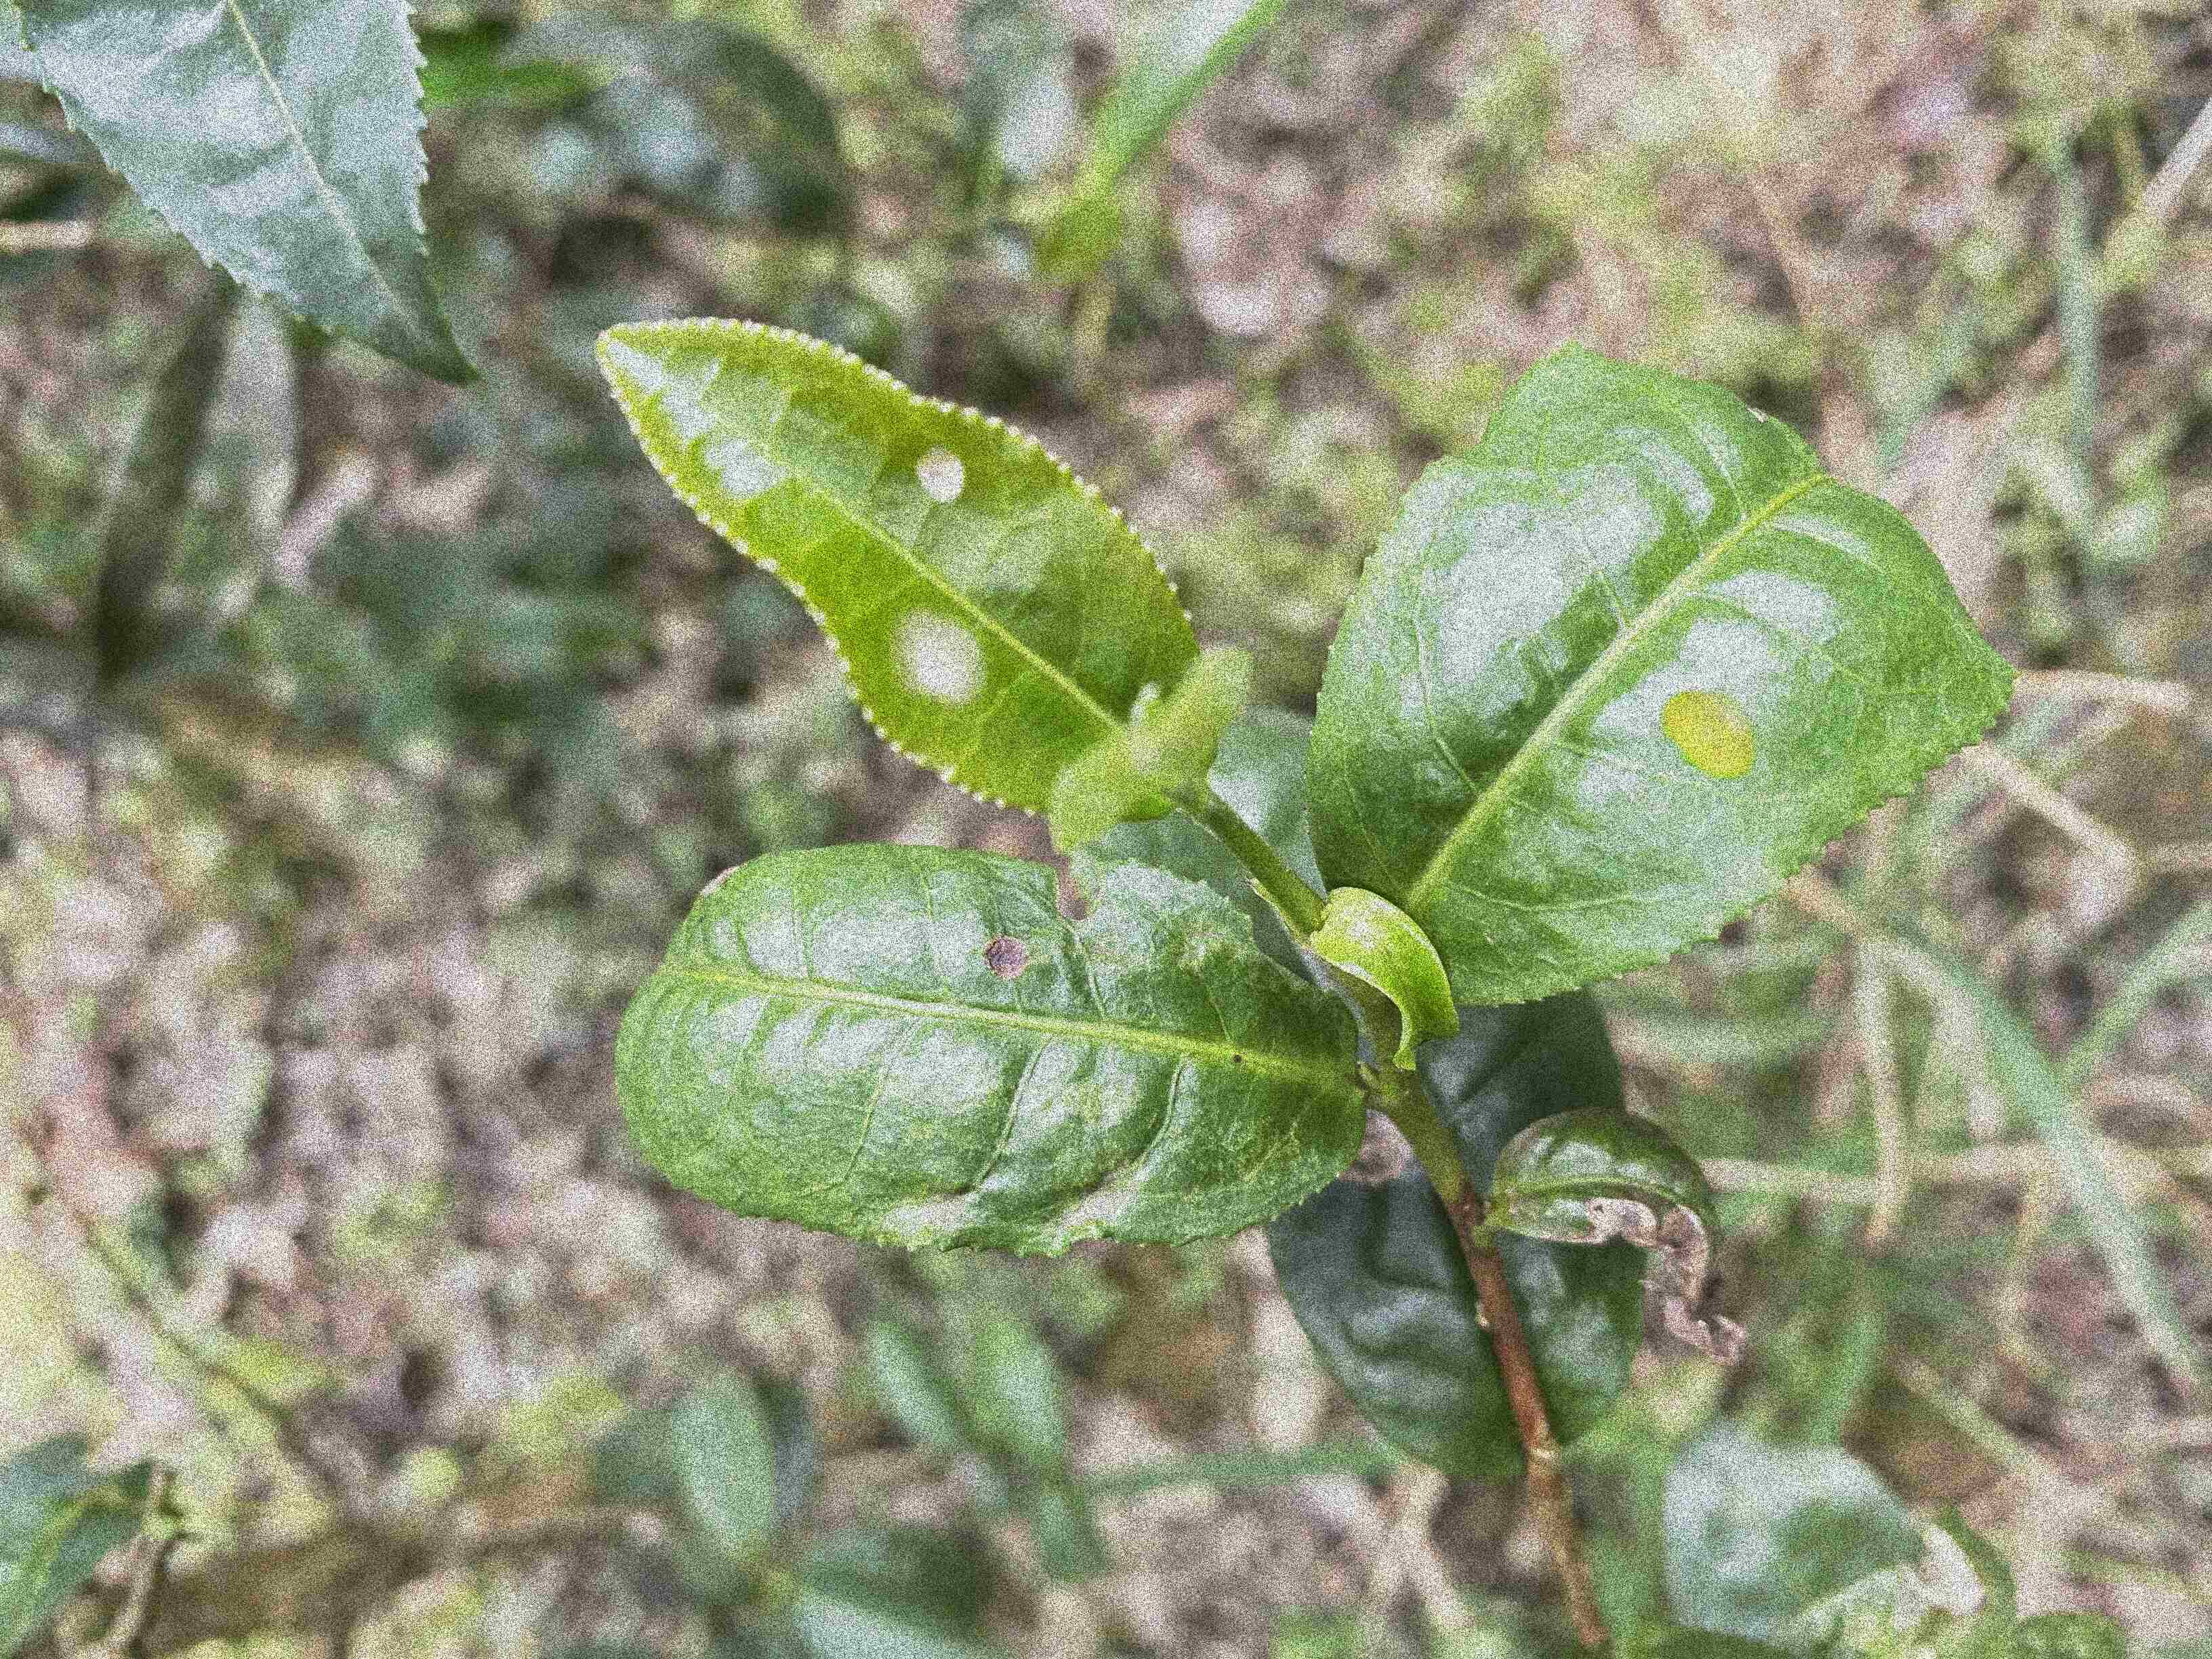chabing_high: (590, 315, 1219, 824)
chabing_low: (1305, 342, 2026, 1009)
healthy: (7, 3, 479, 389)
